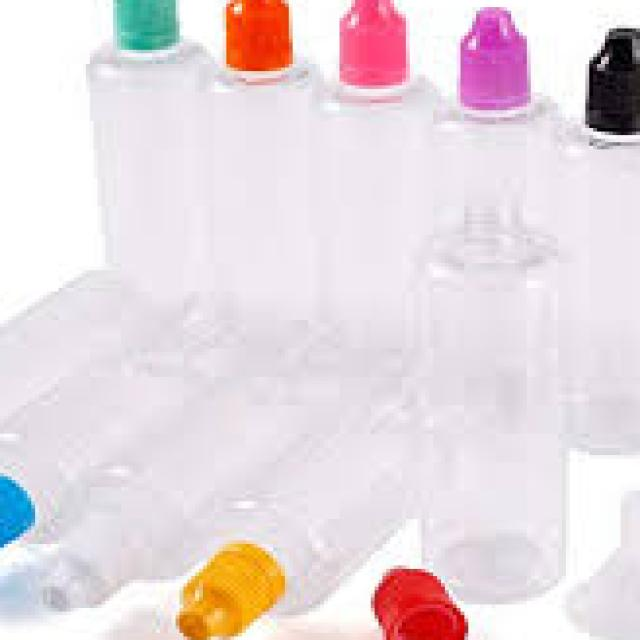organic: (4, 4, 627, 626)
